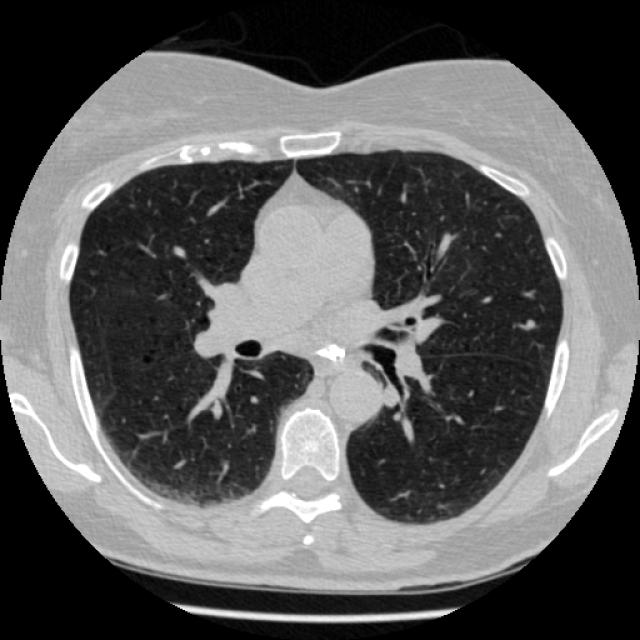nodule: (518, 311, 540, 334)
